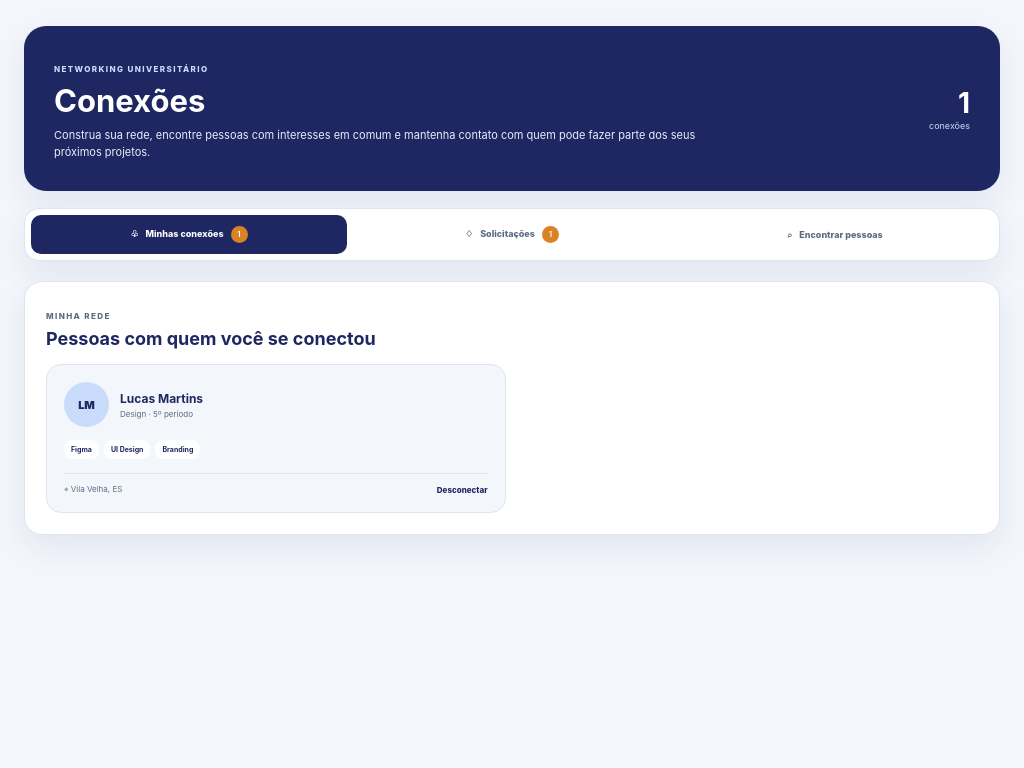
Test: Conexões › ignora IDs e solicitações inválidos no armazenamento
Expected: the heading "Lucas Martins" is shown, [120,391,203,406]
Expected: the heading "Ana Souza" is not shown
Click the button "♢ Solicitações 1": (512, 235) [354,215,670,254]
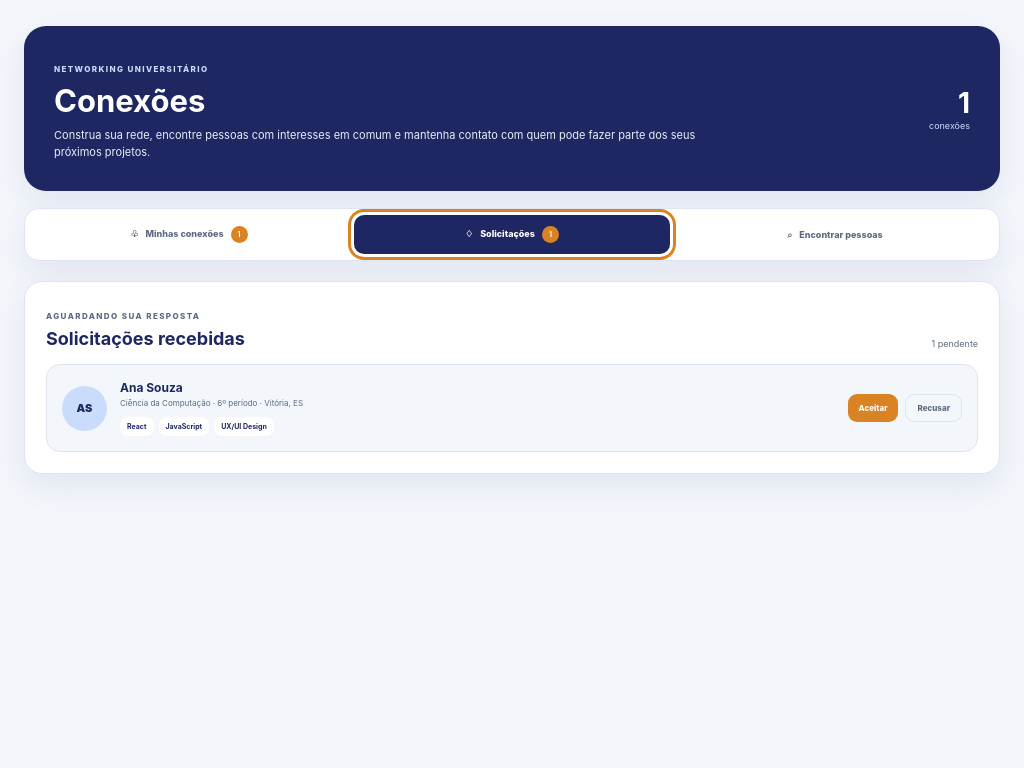
Expected: the heading "Ana Souza" is shown, [120,380,183,395]
Expected: the text "1 pendente" is shown, [932,338,978,349]
